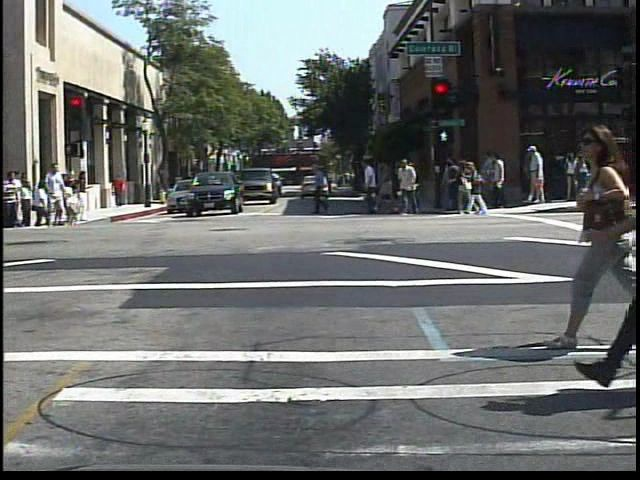person: (556, 104, 639, 352), (42, 163, 70, 230), (526, 144, 551, 207), (3, 167, 24, 231), (111, 174, 129, 211), (171, 169, 190, 199)
